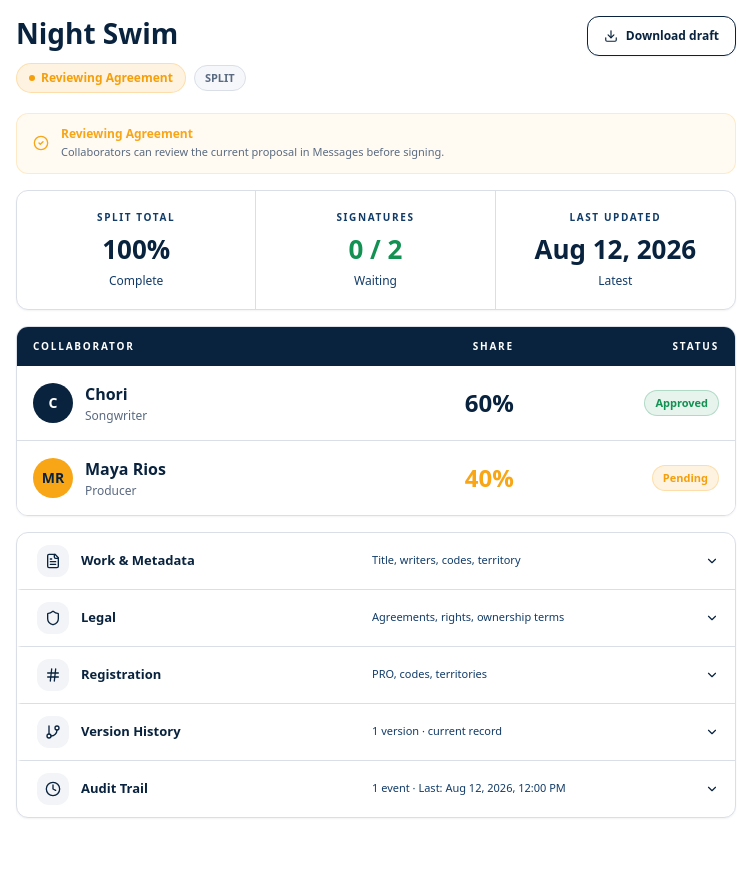
Test: collaborator registration preview › shows each party's stored PRO and IPI, not the viewer's current profile
The image size is (753, 888).
Click the button "Registration PRO, codes, territories" at (378, 674), box [21,646,735,702]
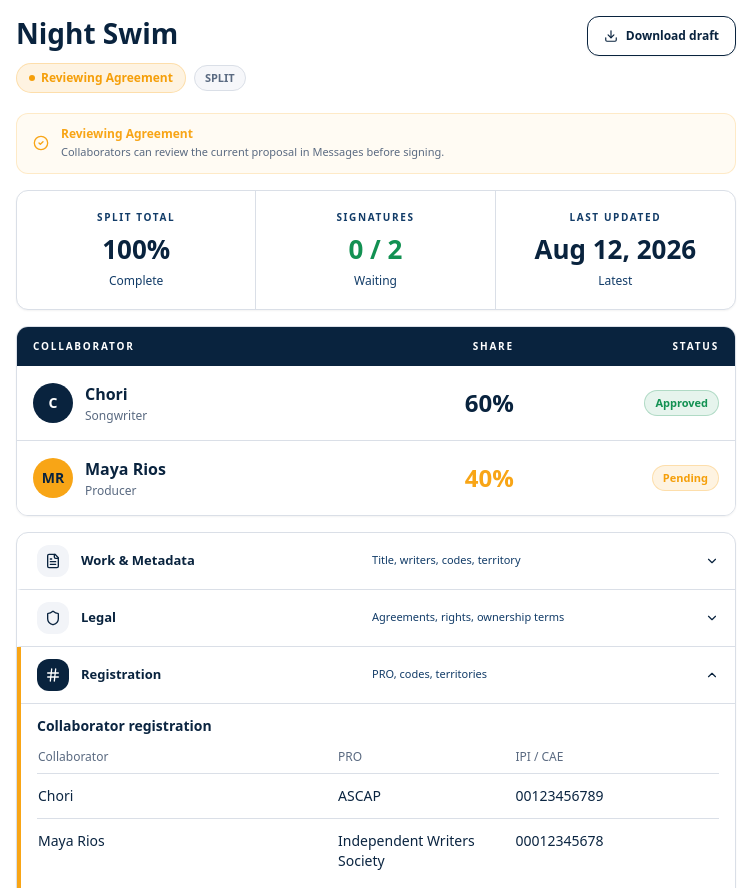
Expected: the table named "Collaborator registration" does not show "99999999999", [37,748,719,882]
Expected: the row "Chori ASCAP 00123456789" is shown, [37,773,719,818]
Expected: the row "Maya Rios Independent Writers Society 00012345678" is shown, [37,818,719,882]
